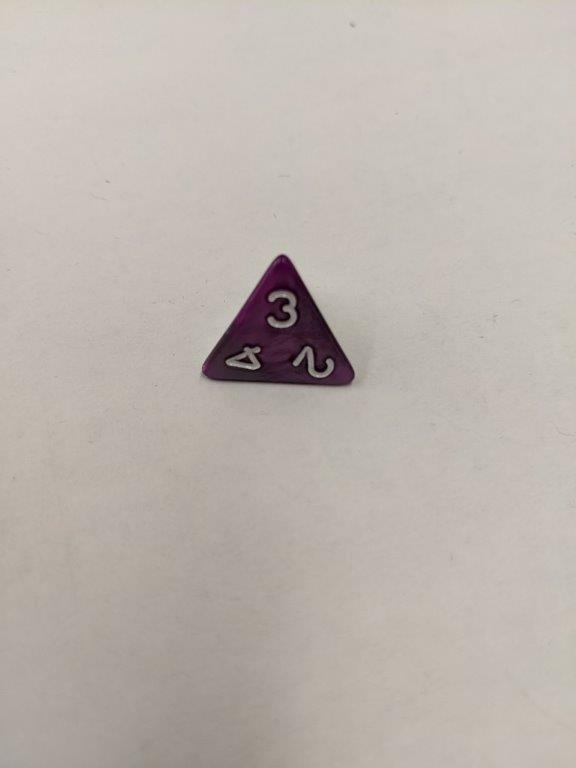d4-3: (197, 250, 361, 396)
